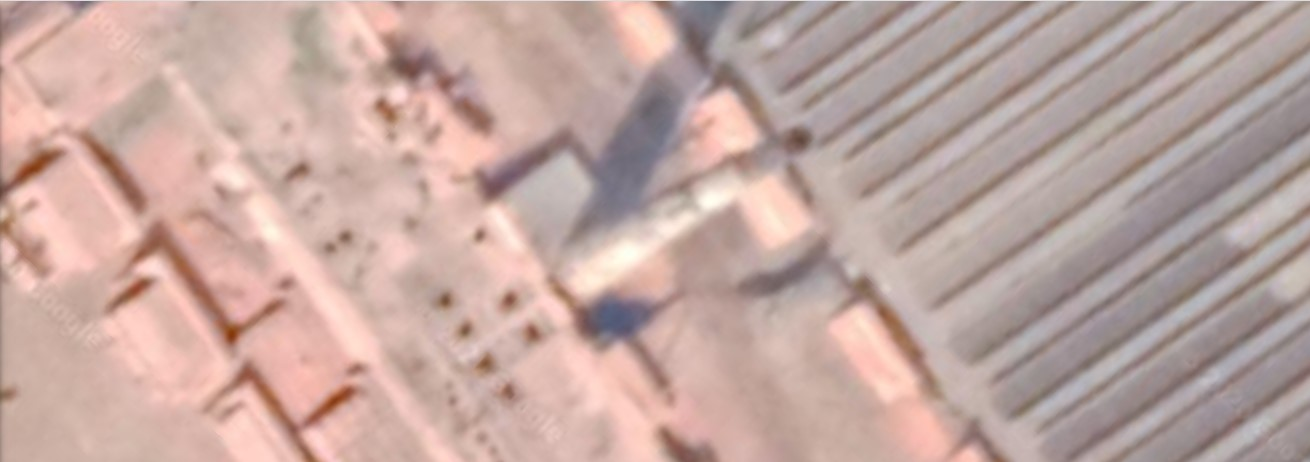kiln: (106, 7, 966, 459)
